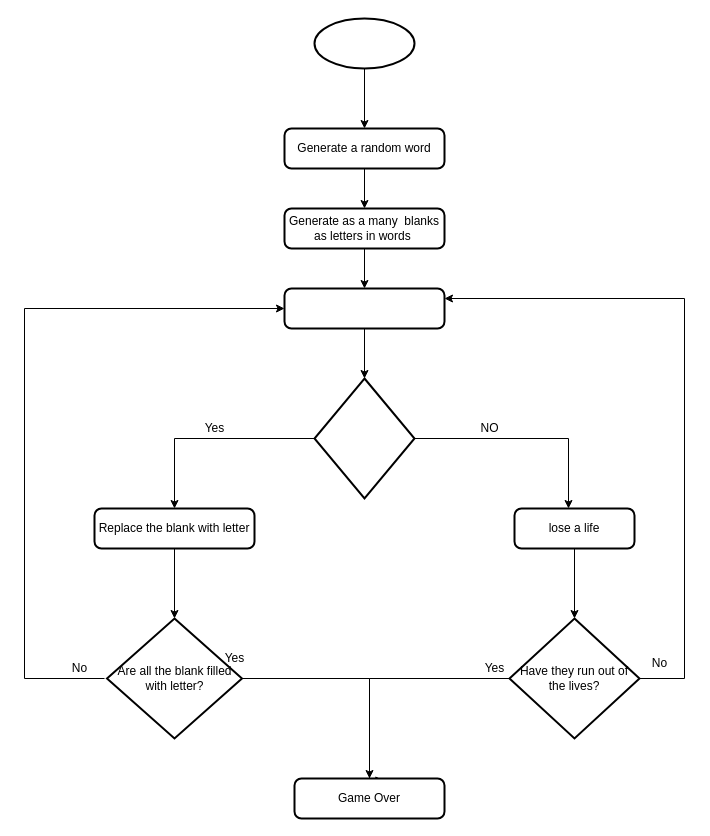
Some shapes in this 710 by 836 pixel diagram are drawn without their labels. The shapes that lost their labels are listed below. From the top down, each one's centre as x and y in pixels, then its label:
At [364,43]: "start".
At [364,308]: "ask the user to guess the letter".
At [364,438]: "is the guessed letter in the word".
